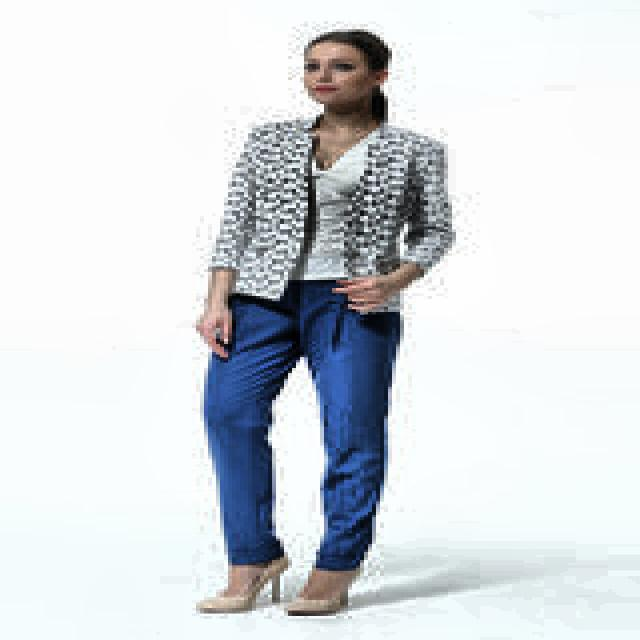Human: (181, 18, 454, 618)
